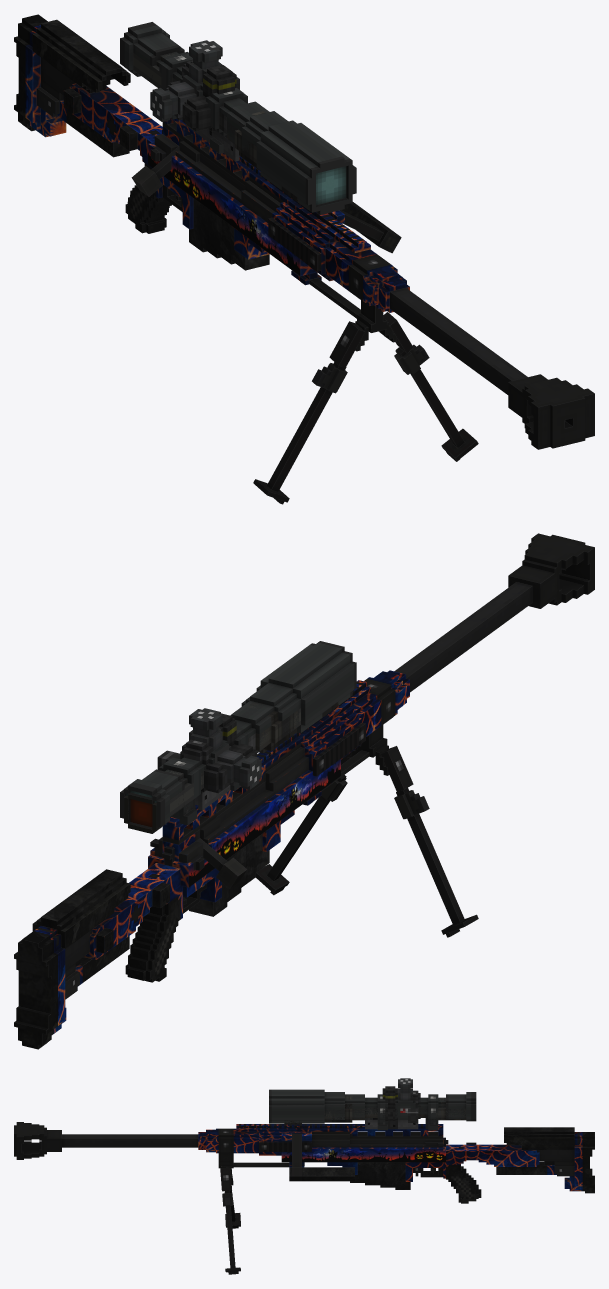
File: RD_HECATE2_SCARY.glb
3 views of the same model, one above another, from view 1: azimuth 30°, elevation 25°; view 2: azimuth 150°, elevation 25°; view 3: azimuth 270°, elevation 25° (orthographic). The views are drawn at different scales.
Visible parts, largest first — view 1: HECATE2, SCOPE_LEUPOLD_ULTRA, HECATE2_DIPOD_LEG1, SCOPE_LEUPOLD, HECATE2_DIPOD_LEG2, HECATE2_CLIP, HECATE2_BOLT_P2, SCOPE_NIGHTFORCE; view 2: HECATE2, SCOPE_LEUPOLD_ULTRA, SCOPE_NIGHTFORCE, HECATE2_DIPOD_LEG1, HECATE2_DIPOD_LEG2, SCOPE_LEUPOLD, HECATE2_CLIP, HECATE2_BOLT_P1, HECATE2_BOLT_P2; view 3: HECATE2, SCOPE_LEUPOLD_ULTRA, SCOPE_NIGHTFORCE, HECATE2_CLIP, SCOPE_LEUPOLD, HECATE2_DIPOD_LEG2.
Part boxes in pixels (x1=…): HECATE2: x1=14, y1=14, x2=594, y2=449; SCOPE_LEUPOLD_ULTRA: x1=120, y1=22, x2=356, y2=214; HECATE2_DIPOD_LEG1: x1=253, y1=321, x2=364, y2=504; SCOPE_LEUPOLD: x1=125, y1=52, x2=296, y2=201; HECATE2_DIPOD_LEG2: x1=383, y1=312, x2=478, y2=461; HECATE2_CLIP: x1=189, y1=198, x2=269, y2=270; HECATE2_BOLT_P2: x1=131, y1=146, x2=179, y2=196; SCOPE_NIGHTFORCE: x1=157, y1=54, x2=301, y2=205; HECATE2: x1=14, y1=533, x2=594, y2=1049; SCOPE_LEUPOLD_ULTRA: x1=120, y1=641, x2=356, y2=829; SCOPE_NIGHTFORCE: x1=124, y1=702, x2=338, y2=833; HECATE2_DIPOD_LEG1: x1=380, y1=746, x2=478, y2=937; HECATE2_DIPOD_LEG2: x1=255, y1=749, x2=355, y2=895; SCOPE_LEUPOLD: x1=128, y1=705, x2=333, y2=833; HECATE2_CLIP: x1=189, y1=834, x2=269, y2=916; HECATE2_BOLT_P1: x1=162, y1=781, x2=265, y2=866; HECATE2_BOLT_P2: x1=195, y1=838, x2=247, y2=888; HECATE2: x1=14, y1=1122, x2=594, y2=1203; SCOPE_LEUPOLD_ULTRA: x1=269, y1=1078, x2=476, y2=1130; SCOPE_NIGHTFORCE: x1=284, y1=1090, x2=475, y2=1129; HECATE2_CLIP: x1=350, y1=1162, x2=410, y2=1189; SCOPE_LEUPOLD: x1=289, y1=1086, x2=465, y2=1129; HECATE2_DIPOD_LEG2: x1=220, y1=1167, x2=240, y2=1274.
Size of the model in its own units: 0.5136 by 0.7326 by 2.26.
4 materials, 4 textured.
